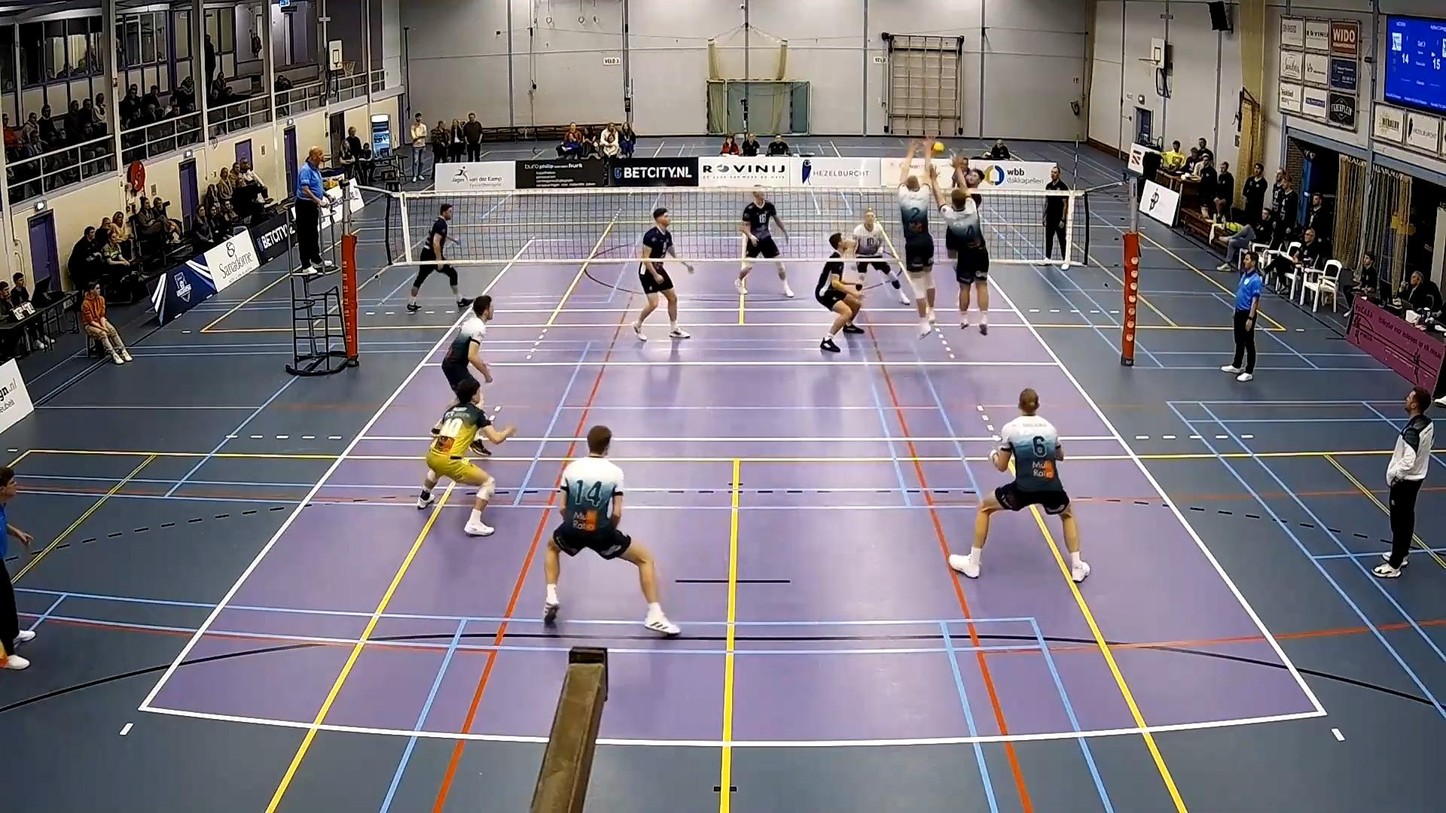Attack: (923, 136, 992, 203)
Block: (934, 154, 994, 340), (894, 146, 939, 339)
Player: (544, 425, 679, 635), (949, 388, 1090, 581), (416, 376, 514, 535), (632, 208, 689, 340), (407, 204, 471, 312), (735, 188, 794, 297), (814, 233, 862, 352), (853, 209, 911, 304), (441, 294, 492, 391)
ball: (928, 141, 949, 154)
